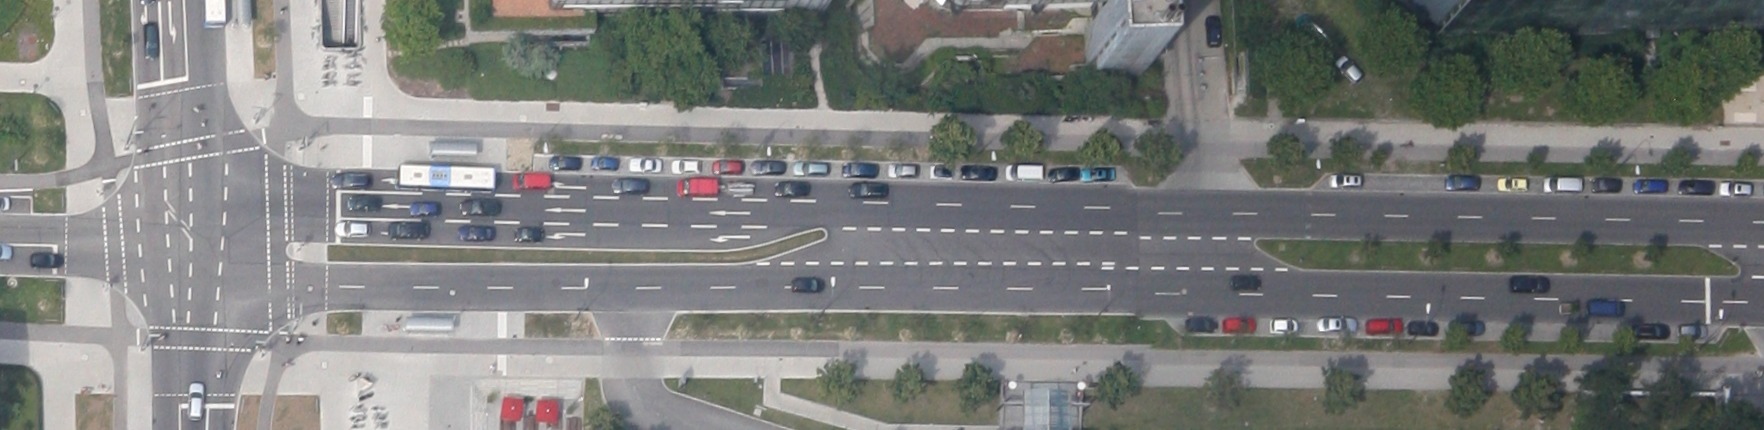car: (1333, 53, 1366, 86), (459, 197, 501, 216), (1586, 297, 1624, 317), (676, 177, 717, 196), (511, 171, 550, 190), (1507, 275, 1549, 292), (389, 220, 427, 238), (1005, 163, 1042, 181), (331, 171, 367, 189), (186, 382, 202, 420), (334, 220, 369, 238), (1365, 317, 1402, 334), (847, 182, 886, 198), (1316, 317, 1356, 333), (29, 251, 63, 269), (611, 177, 647, 194), (773, 180, 809, 197), (1543, 176, 1582, 191), (790, 276, 823, 293), (1204, 14, 1221, 47), (1444, 173, 1478, 190), (1327, 171, 1361, 188), (346, 194, 379, 210), (1448, 320, 1483, 335), (841, 161, 876, 177), (457, 225, 494, 240), (1222, 316, 1255, 332), (1638, 322, 1669, 339), (961, 164, 994, 180), (1677, 179, 1713, 194), (1185, 315, 1217, 331), (1718, 180, 1750, 196), (751, 159, 784, 174), (629, 156, 661, 172), (1407, 319, 1438, 335), (143, 24, 157, 59), (513, 226, 544, 242), (1632, 178, 1666, 192), (1590, 176, 1619, 192), (726, 179, 753, 197), (548, 155, 580, 170), (1269, 316, 1297, 333), (670, 158, 699, 174), (1048, 165, 1078, 181), (1230, 274, 1259, 289), (793, 161, 827, 174), (1081, 167, 1114, 180), (409, 201, 438, 216), (1497, 177, 1525, 191), (712, 159, 740, 173), (1677, 324, 1705, 338), (888, 162, 916, 176), (589, 156, 618, 170), (929, 164, 951, 178), (1559, 301, 1579, 314)
